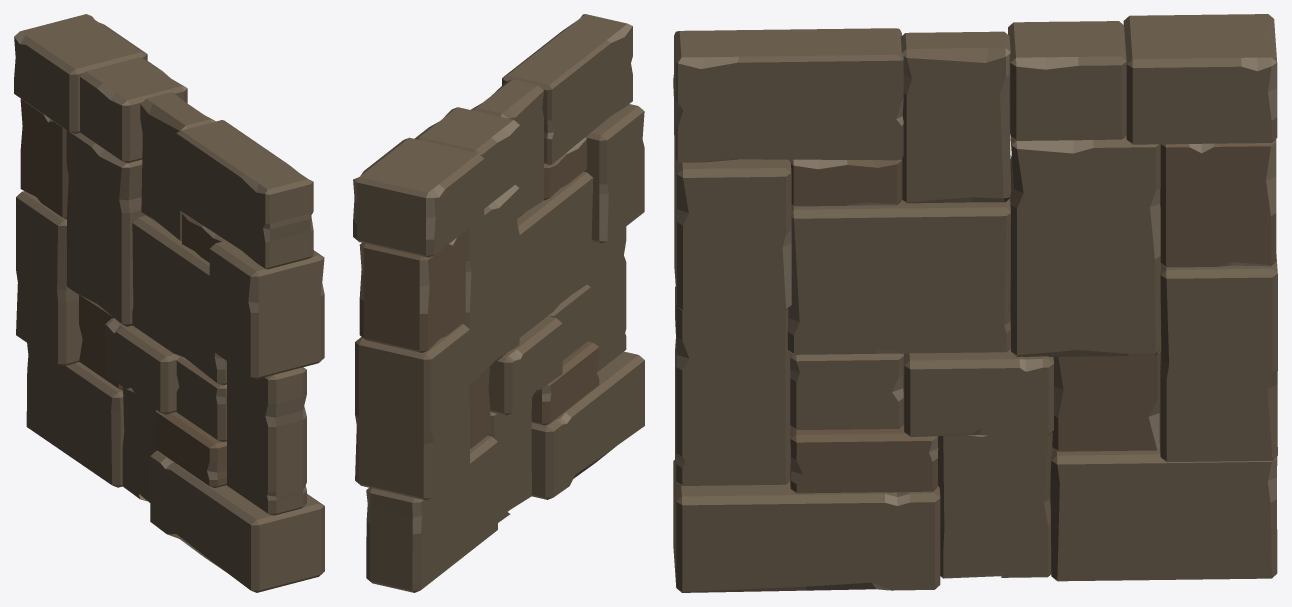
Rendered from crypt_wall_west_5_lev3.glb.
3 renders of one model, left to right at view 1: azimuth 30°, elevation 25°; view 2: azimuth 150°, elevation 25°; view 3: azimuth 270°, elevation 25°, orthographic. The views are drawn at different scales.
Visible parts, largest first — view 1: crypt_wall_west_5_lev3; view 2: crypt_wall_west_5_lev3; view 3: crypt_wall_west_5_lev3.
Boxes of the visible parts, left/top/right/bottom form: crypt_wall_west_5_lev3: left=14, top=14, right=324, bottom=592; crypt_wall_west_5_lev3: left=353, top=14, right=644, bottom=592; crypt_wall_west_5_lev3: left=673, top=14, right=1277, bottom=592.
Size of the model in its own units: 1.39 by 6.01 by 6.21.
